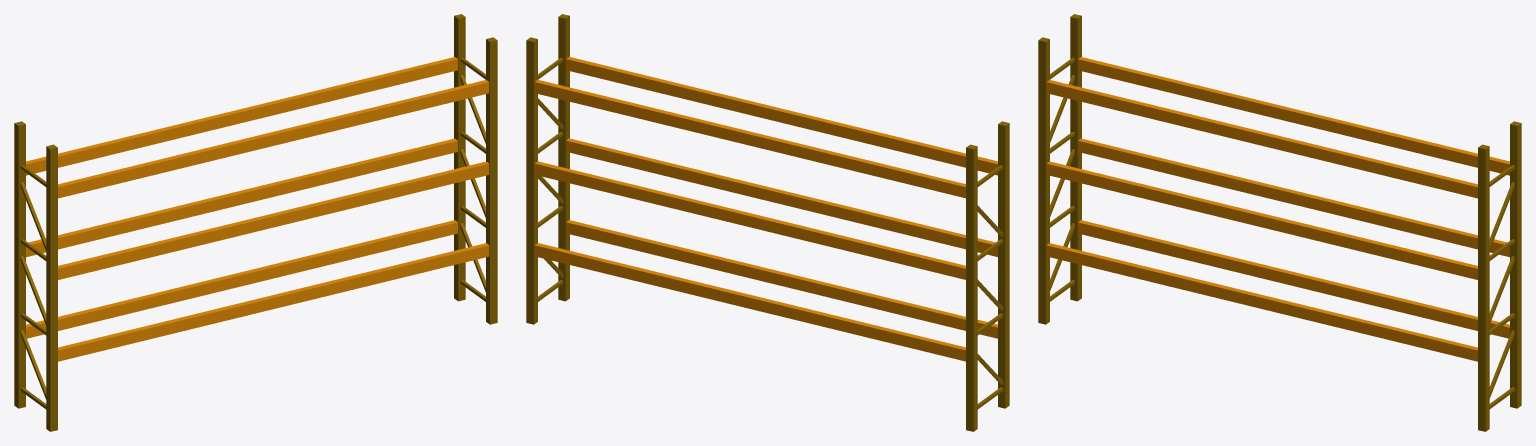
Rendered from SM_ShelfA_01.fbx.
3 views of the same model, side by side, from view 1: azimuth 30°, elevation 25°; view 2: azimuth 150°, elevation 25°; view 3: azimuth 330°, elevation 25° (orthographic).
Visible parts, largest first — view 1: SM_Shelf_A_01; view 2: SM_Shelf_A_01; view 3: SM_Shelf_A_01.
Part boxes in pixels (<box>): SM_Shelf_A_01: <box>14,14,497,431</box>; SM_Shelf_A_01: <box>526,14,1009,431</box>; SM_Shelf_A_01: <box>1038,14,1521,431</box>.
Size of the model in its own units: 915 by 553 by 127.
